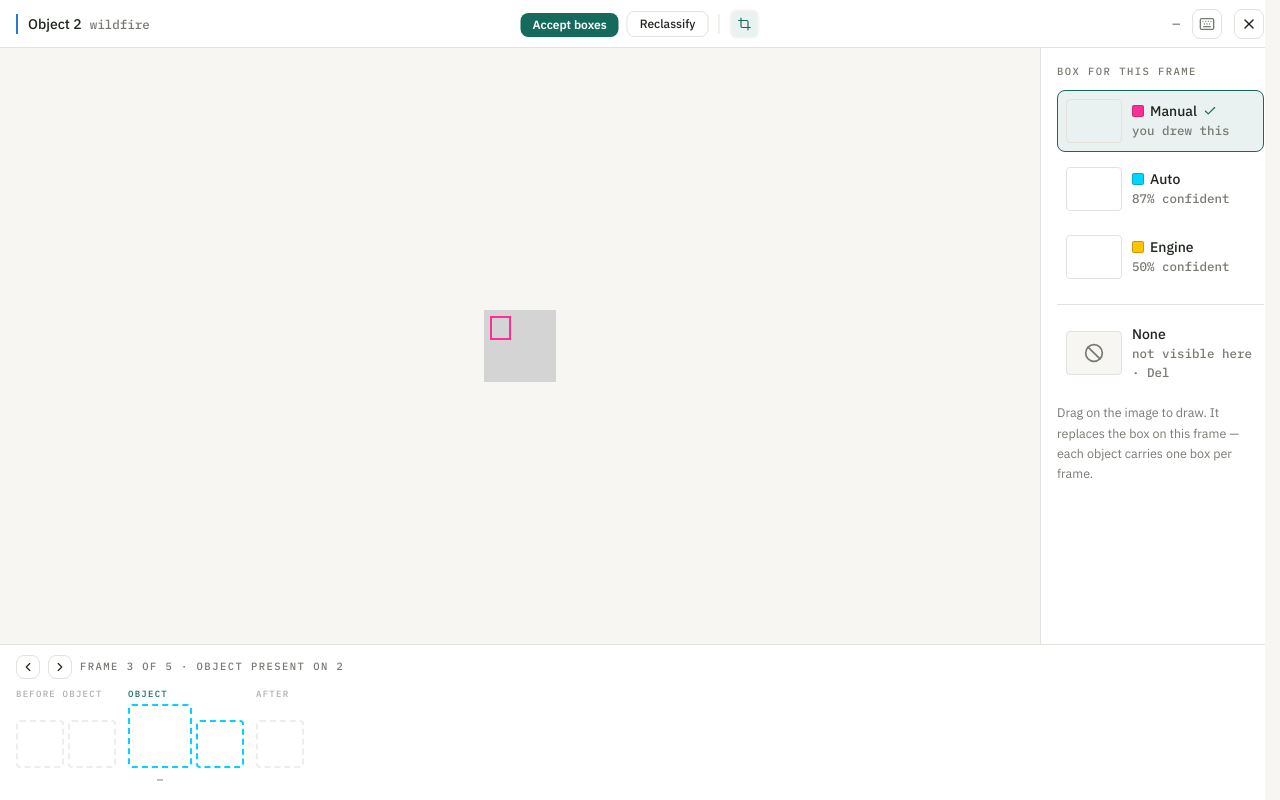
LocalizeObjectEditor box selection › selects the box on click, revealing its handles
Press the mouse on the element with test id "drawn-box-committed": (500, 328) [490,317,511,338]
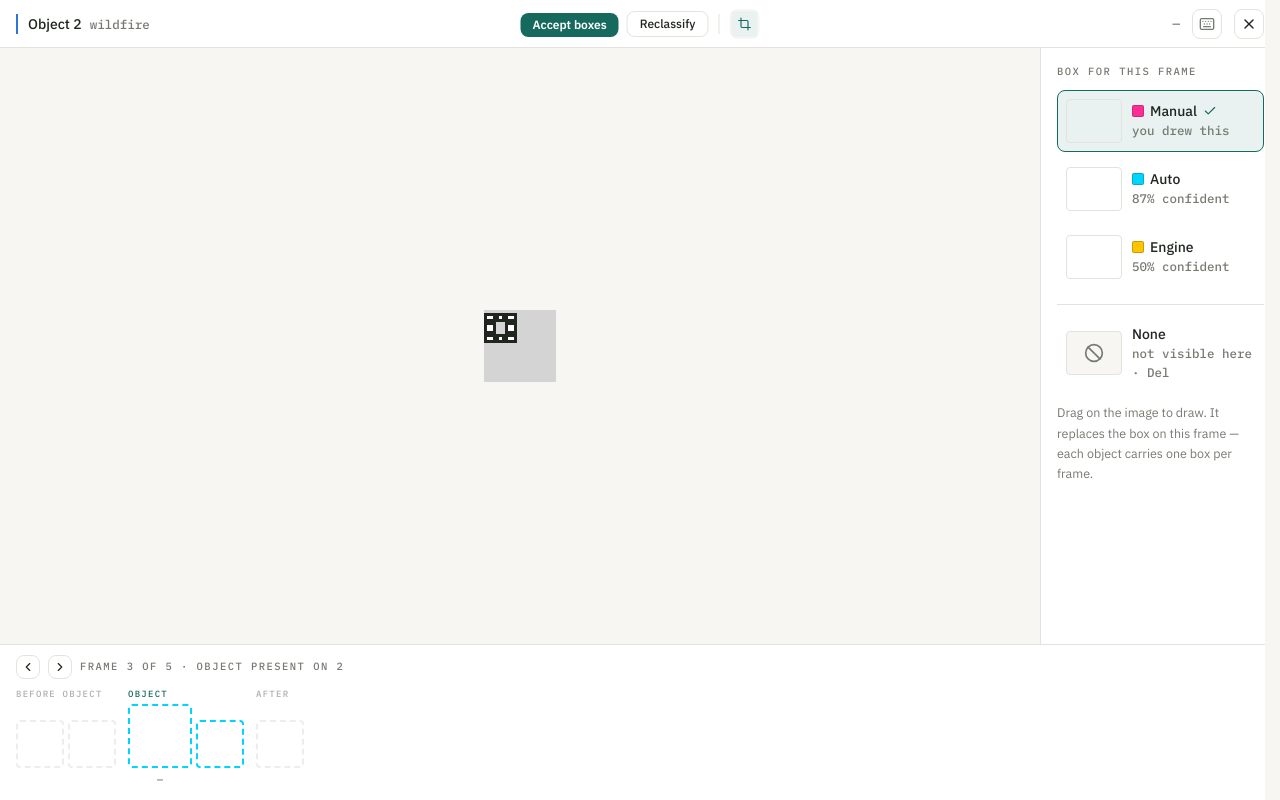
Now the element with test id "^resize-handle-" is shown, box [485,312,495,322]
